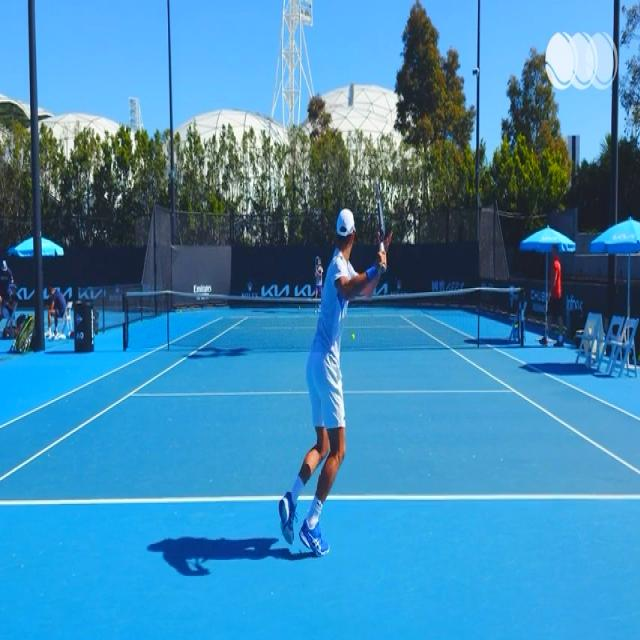forehand-ready: (283, 186, 396, 552)
